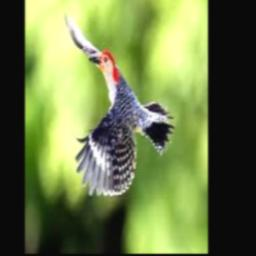Woodpecker: (64, 10, 174, 196)
